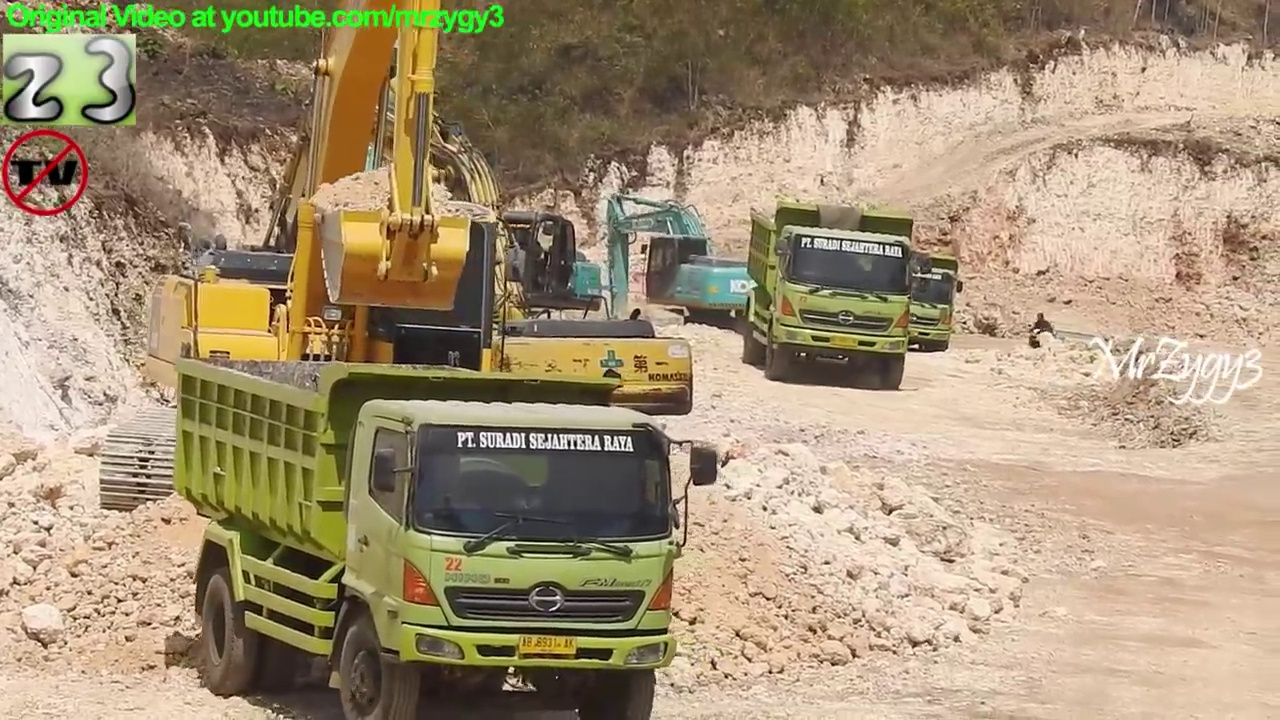excavator: (96, 1, 564, 526), (199, 30, 705, 476), (298, 48, 607, 362), (582, 188, 777, 340)
truck: (167, 341, 725, 720), (740, 195, 934, 393), (847, 244, 967, 358)
